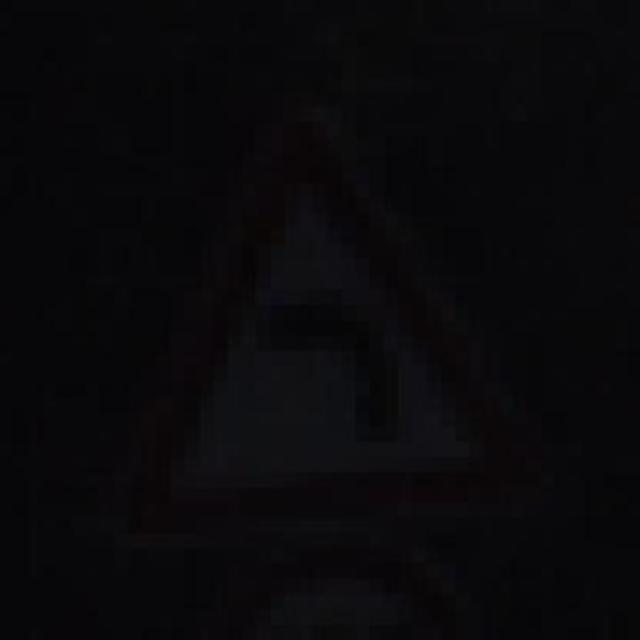Dangerous Left Curve Ahead: (71, 137, 555, 594)
